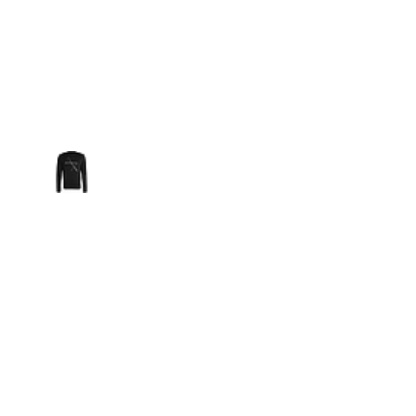Pullover: (50, 151, 92, 193)
